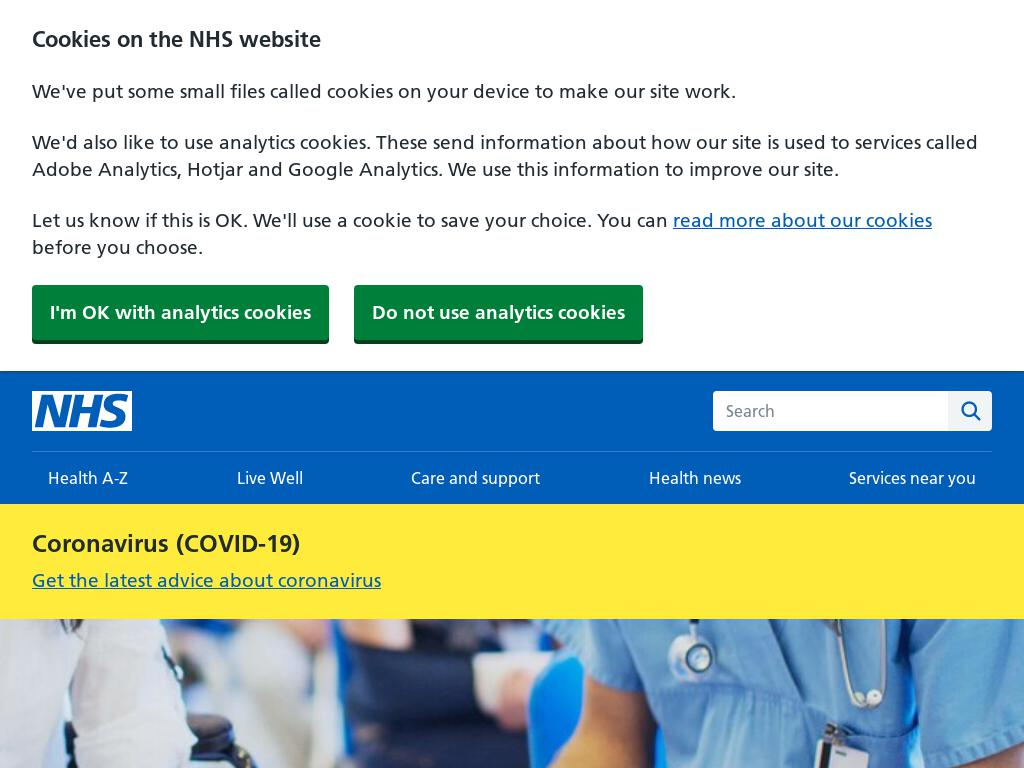button: (32, 285, 329, 340), (354, 285, 643, 340), (395, 452, 556, 504), (833, 452, 992, 504), (632, 452, 757, 504), (32, 452, 144, 504), (220, 452, 319, 504), (32, 391, 132, 431)
field: (713, 391, 948, 431)
heading: (32, 528, 992, 559), (32, 24, 992, 54)
image: (32, 391, 132, 431)
link: (32, 569, 381, 592), (673, 209, 932, 232)
text: (32, 129, 992, 183), (32, 78, 992, 105), (32, 209, 673, 232), (32, 236, 203, 259), (411, 468, 540, 488), (849, 468, 976, 488), (648, 468, 741, 488), (48, 468, 128, 488), (236, 468, 303, 488)
